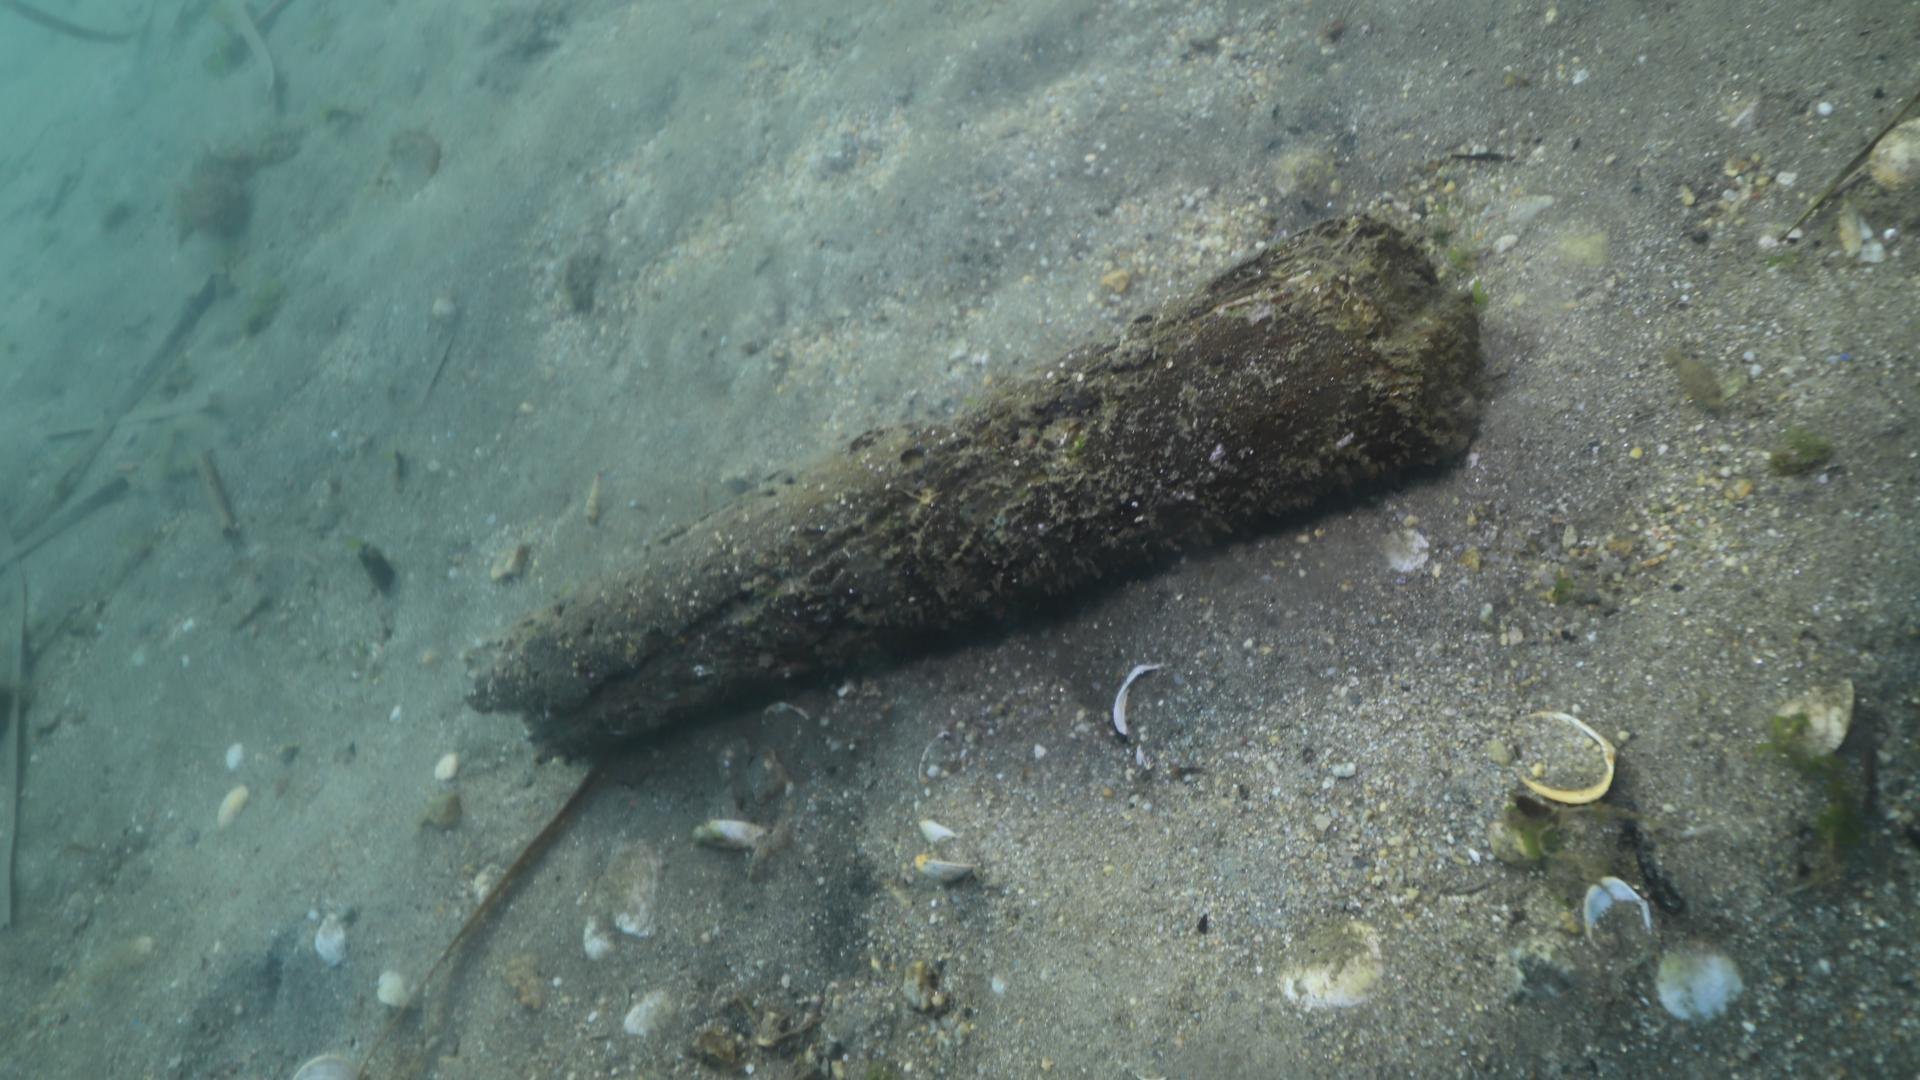wood: (462, 211, 1480, 764)
